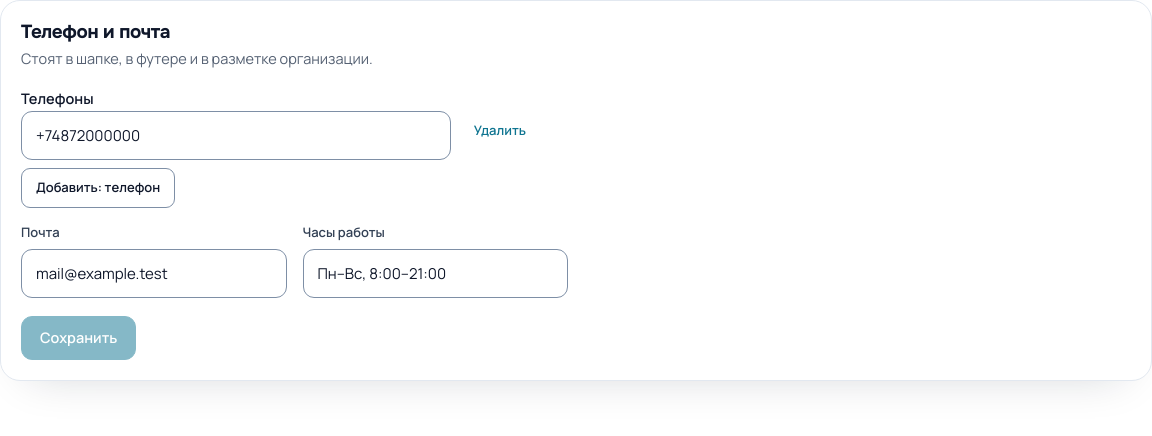
Test: Форма группы настроек › ошибка сервера показывается у своего поля и не дублируется
Type "x" into the field labelled "Почта" at (154, 273), box [21, 249, 286, 298]
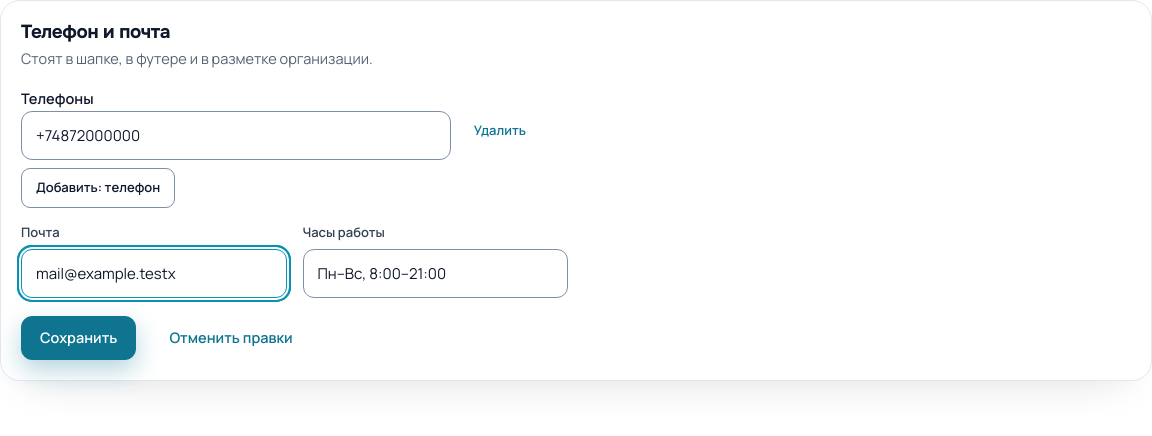
Click the button "Сохранить" at (79, 338), box [21, 316, 136, 360]
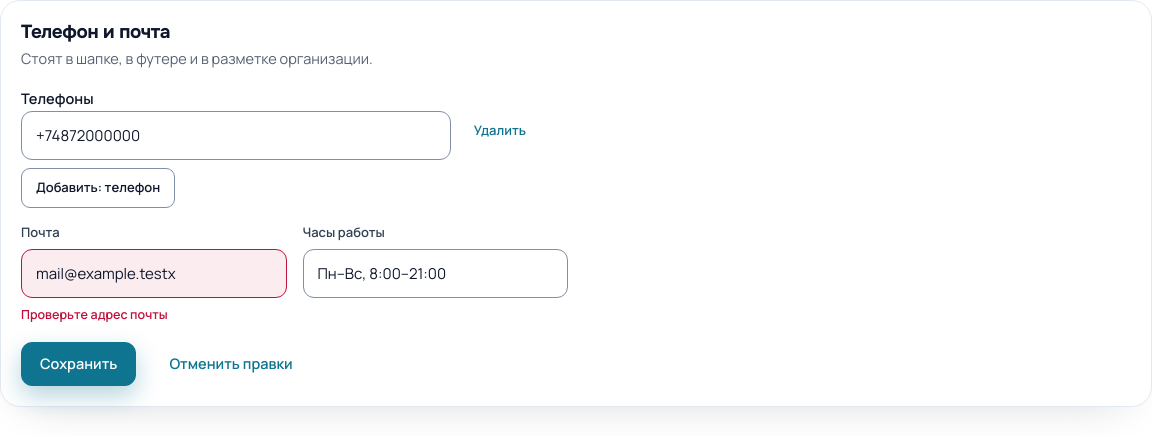
Now the number of messages is 1, box [21, 306, 168, 323]
